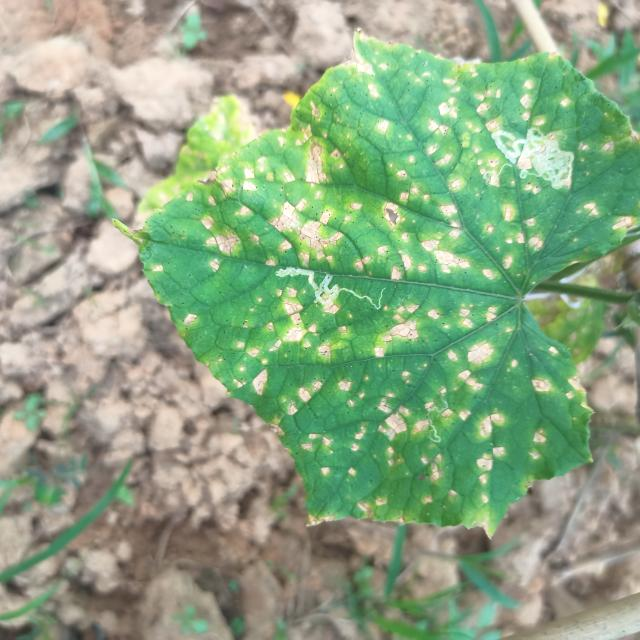disease_cucumber: (191, 61, 628, 506)
